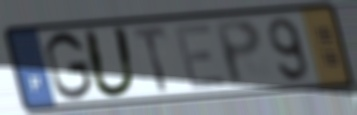9: (265, 15, 312, 83)
E: (171, 20, 229, 92)
G: (42, 29, 95, 103)
P: (212, 17, 264, 89)
T: (129, 24, 171, 95)
U: (80, 25, 140, 100)
